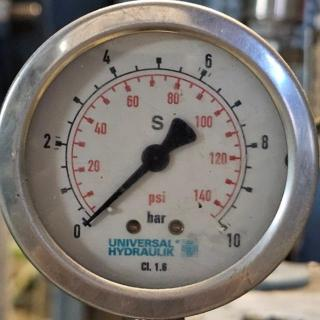gauge: (0, 0, 320, 320), (207, 211, 245, 249), (68, 208, 104, 240), (140, 143, 170, 173), (79, 215, 95, 229)
